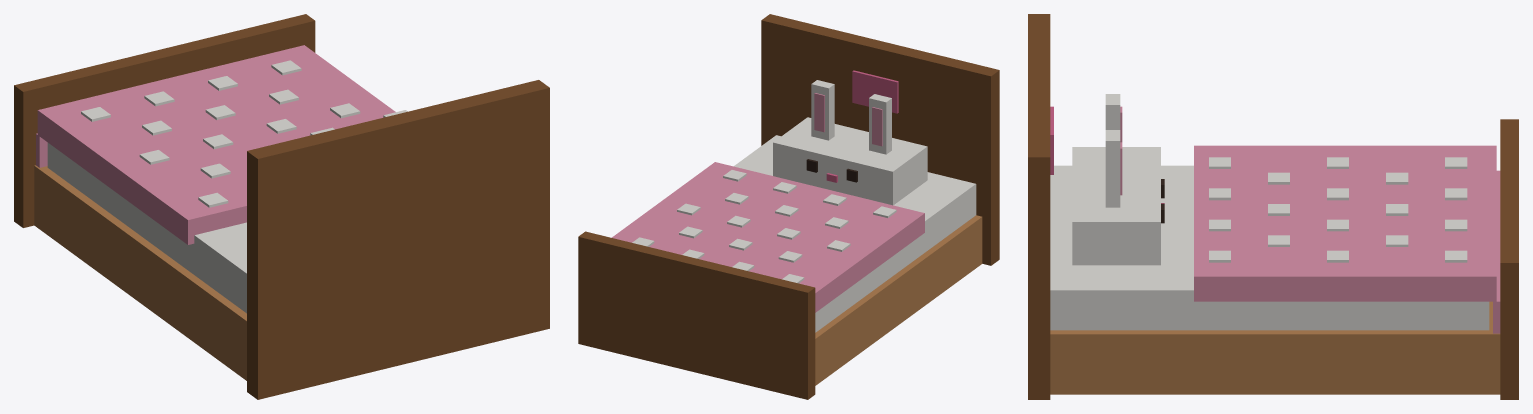
Rendered from ncb-bed-pink.glb.
3 renders of one model, left to right at view 1: azimuth 30°, elevation 25°; view 2: azimuth 150°, elevation 25°; view 3: azimuth 270°, elevation 25°, orthographic. The views are drawn at different scales.
Visible parts, largest first — view 1: box-prop; view 2: box-prop; view 3: box-prop.
Part boxes in pixels (x1,y1,x2,y2): box-prop: (14, 14, 549, 399); box-prop: (578, 14, 999, 399); box-prop: (1028, 14, 1518, 399).
Bounding box in the file's own units: 1.84 × 1.45 × 2.66.
